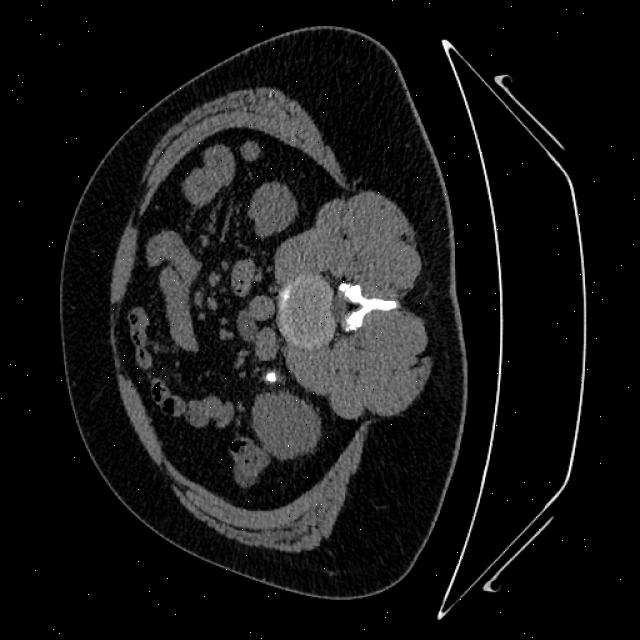kidneystone: (264, 369, 284, 382)
